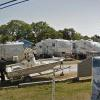Boat: (3, 50, 64, 82)
